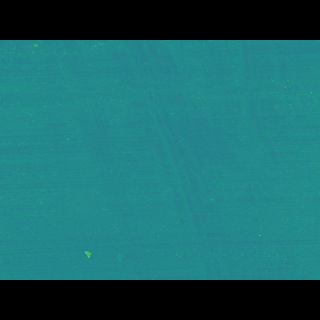Loch: (105, 70, 319, 245)
